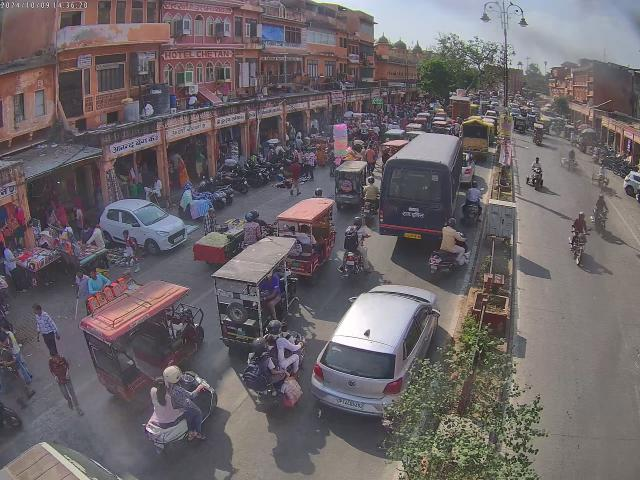auto: (81, 278, 206, 399), (211, 254, 299, 350), (275, 194, 337, 272), (332, 159, 368, 210), (512, 114, 534, 132), (532, 125, 546, 146)
bus: (378, 128, 465, 246)
car: (310, 284, 440, 426), (101, 198, 189, 253), (622, 168, 640, 199)
helmet: (162, 363, 181, 380), (266, 319, 282, 335), (252, 338, 266, 354), (350, 214, 364, 228), (442, 218, 456, 228), (574, 212, 585, 221), (472, 180, 478, 188), (598, 194, 604, 200)
license_plate: (336, 396, 364, 409), (404, 232, 421, 239), (430, 264, 438, 272), (345, 260, 355, 266)
lorry: (458, 115, 496, 159)
motorbike-rider: (240, 330, 308, 412), (338, 216, 371, 281), (566, 212, 591, 266), (460, 182, 485, 226), (590, 194, 610, 234)
no_helmet: (152, 376, 168, 395), (535, 156, 540, 163)
person: (32, 302, 62, 356), (82, 266, 109, 300), (86, 224, 106, 250), (0, 240, 14, 277), (150, 177, 162, 200)
rickshow: (558, 148, 582, 174), (590, 164, 610, 191)
scooty-rider: (146, 362, 219, 450), (427, 216, 468, 278), (526, 156, 544, 192)
vendor: (193, 206, 246, 258)
